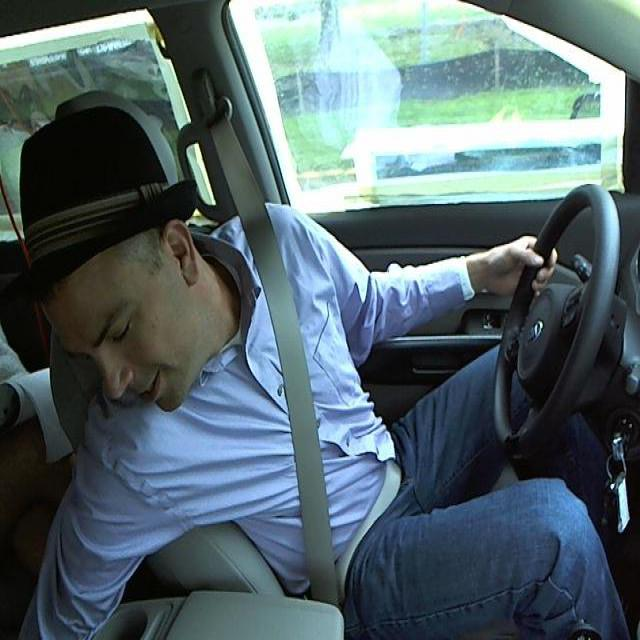seatbelt: (234, 217, 378, 594)
